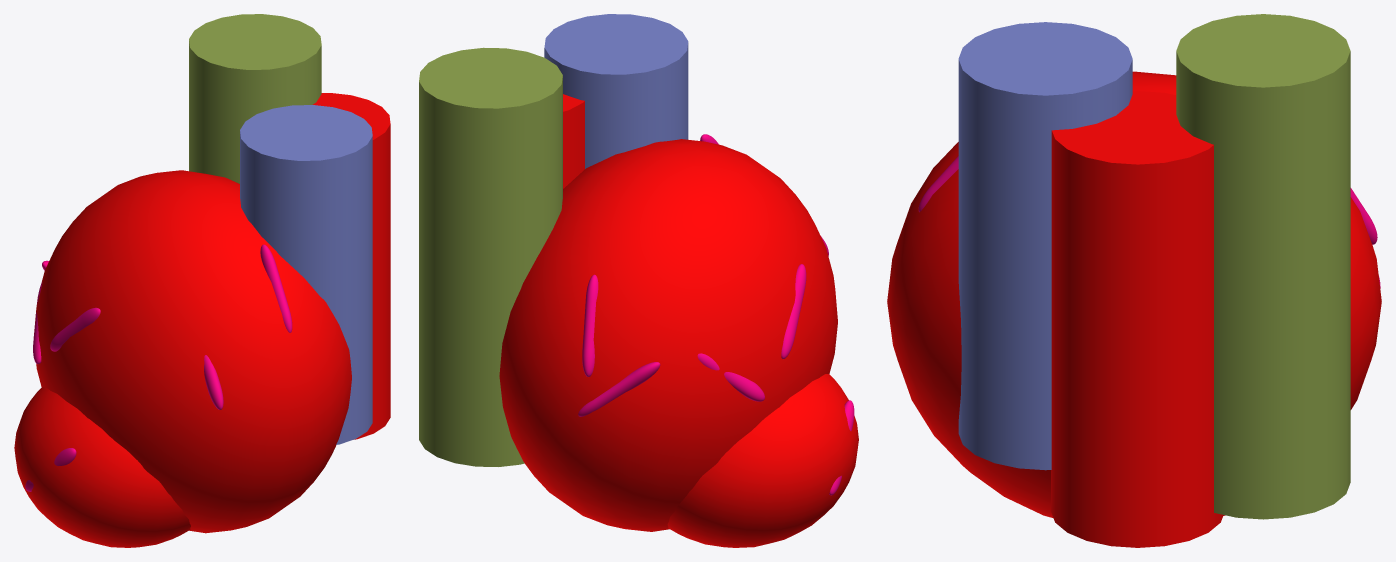
Rendered from Hearth .fbx.
3 views of the same model, side by side, from view 1: azimuth 30°, elevation 25°; view 2: azimuth 150°, elevation 25°; view 3: azimuth 270°, elevation 25° (orthographic). The views are drawn at different scales.
Parts seen in each view (by area): view 1: Sphere, Cylinder__2_, Sphere__1_, Cylinder__1_, Cylinder, Capsule__4_, Capsule, Capsule__5_; view 2: Sphere, Cylinder__1_, Sphere__1_, Cylinder__2_, Cylinder, Capsule__3_, Capsule__6_, Capsule, Capsule__1_; view 3: Cylinder__1_, Cylinder, Cylinder__2_, Sphere.
Boxes of the visible parts, <box> form: Sphere: <box>33,170,351,533</box>; Cylinder__2_: <box>240,105,372,444</box>; Sphere__1_: <box>14,387,190,547</box>; Cylinder__1_: <box>189,14,321,183</box>; Cylinder: <box>313,93,390,439</box>; Capsule__4_: <box>260,244,292,332</box>; Capsule: <box>50,307,100,351</box>; Capsule__5_: <box>204,355,223,409</box>; Sphere: <box>499,139,837,531</box>; Cylinder__1_: <box>419,47,562,466</box>; Sphere__1_: <box>667,374,858,547</box>; Cylinder__2_: <box>544,14,688,168</box>; Cylinder: <box>563,94,584,188</box>; Capsule__3_: <box>582,274,598,376</box>; Capsule__6_: <box>578,362,660,416</box>; Capsule: <box>781,264,806,359</box>; Capsule__1_: <box>697,353,764,401</box>; Cylinder__1_: <box>1176,14,1350,519</box>; Cylinder: <box>1051,91,1223,547</box>; Cylinder__2_: <box>958,22,1132,470</box>; Sphere: <box>887,71,1381,517</box>.
Size of the model in its own units: 1526 by 1709 by 1420.
